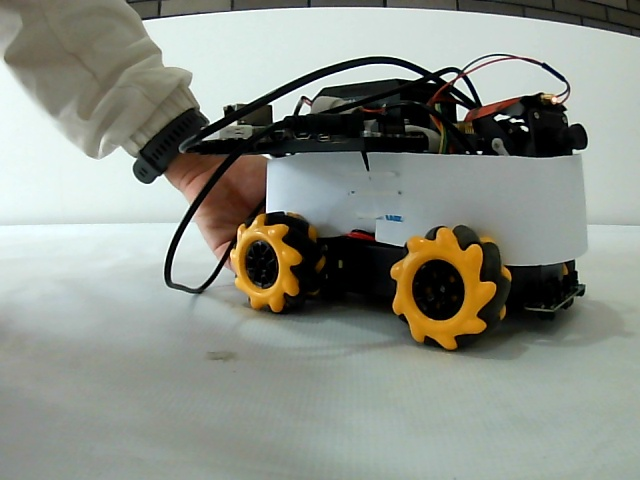car: (218, 82, 590, 349)
paper: (268, 158, 586, 234)
